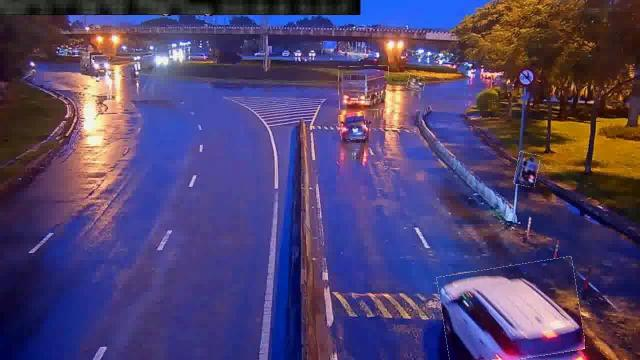Bike: (515, 153, 539, 187), (408, 75, 424, 91)
Car: (440, 261, 582, 359), (339, 112, 367, 140)
Truck: (338, 66, 389, 110)
